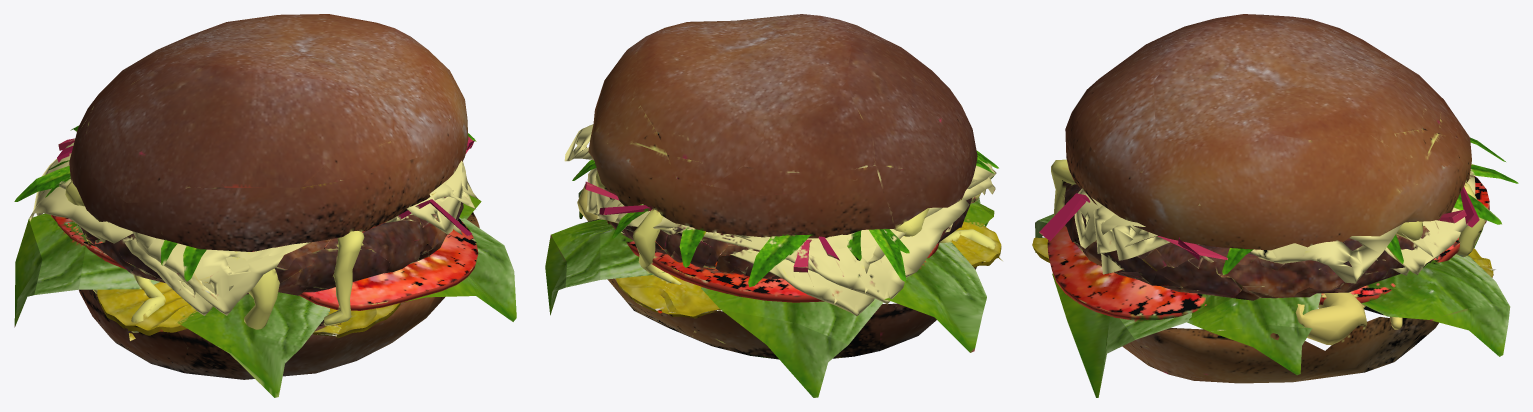
File: burgersikvaruli_low.glb
The picture shows the model from 3 angles, left to right: view 1: azimuth 30°, elevation 25°; view 2: azimuth 150°, elevation 25°; view 3: azimuth 270°, elevation 25°; orthographic projection. The views are drawn at different scales.
Visible parts, largest first — view 1: Object bake; view 2: Object bake; view 3: Object bake.
Boxes of the visible parts, x1,y1,x2,y2 form: Object bake: [14, 14, 516, 397]; Object bake: [545, 14, 1002, 397]; Object bake: [1032, 14, 1518, 397].
Bounding box in the file's own units: 3.65 × 2.21 × 3.47.
Materials: 1 (1 with a texture image).
